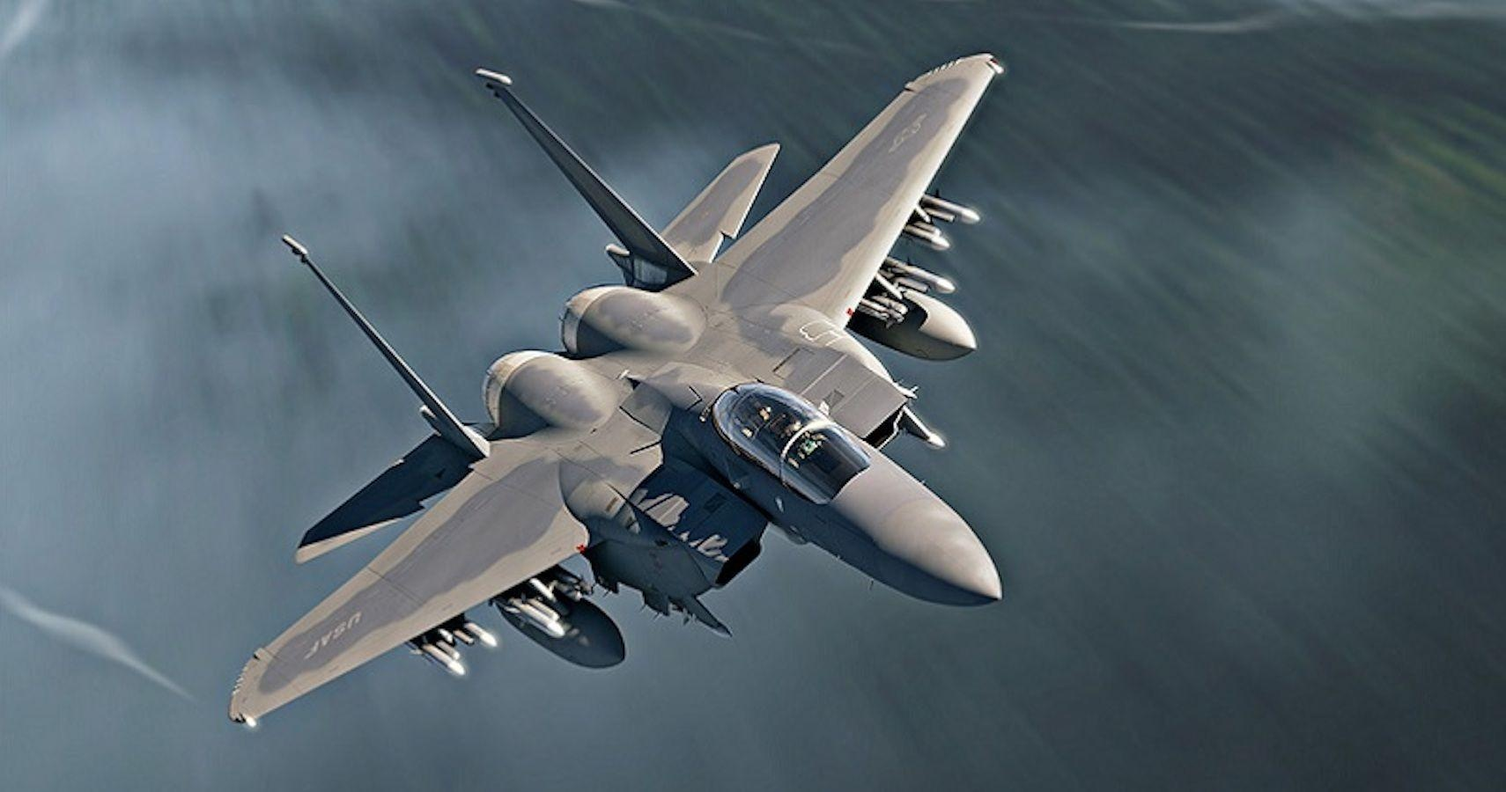aircraft: (229, 58, 1006, 729)
